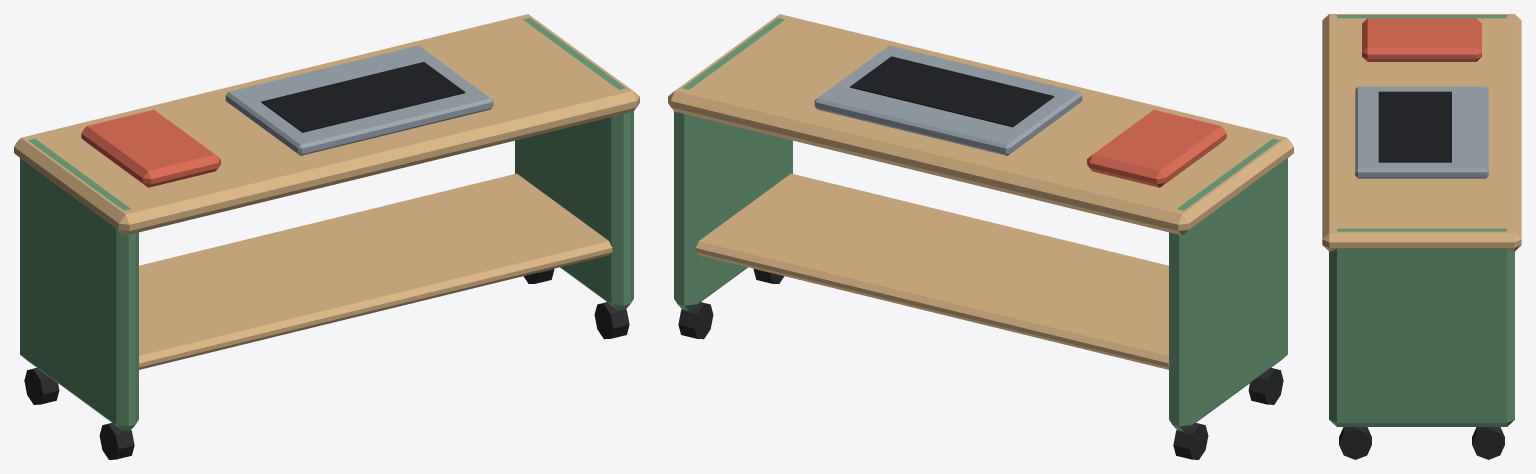
Rendered from rolling_desk.glb.
3 renders of one model, left to right at view 1: azimuth 30°, elevation 25°; view 2: azimuth 150°, elevation 25°; view 3: azimuth 270°, elevation 25°, orthographic. The views are drawn at different scales.
Visible parts, largest first — view 1: rolling_desk_Body; view 2: rolling_desk_Body; view 3: rolling_desk_Body.
Part boxes in pixels (box(x1,y1,x2,y2)): rolling_desk_Body: box(14, 14, 639, 459); rolling_desk_Body: box(668, 14, 1293, 459); rolling_desk_Body: box(1322, 14, 1521, 459).
Bounding box in the file's own units: 0.8 × 0.4 × 0.3.
